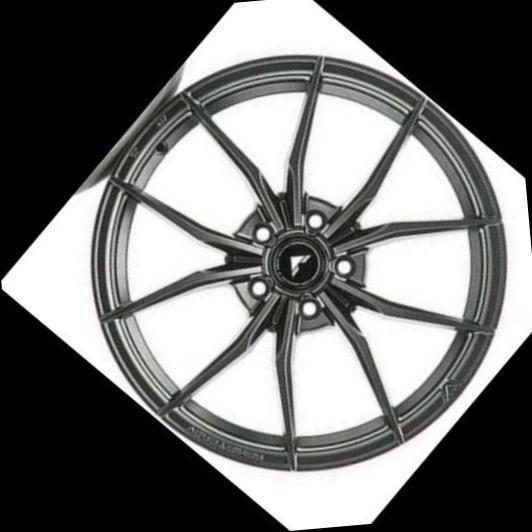hole: (294, 201, 332, 239), (325, 249, 361, 284), (244, 217, 280, 252), (241, 271, 275, 306), (291, 292, 324, 327)
